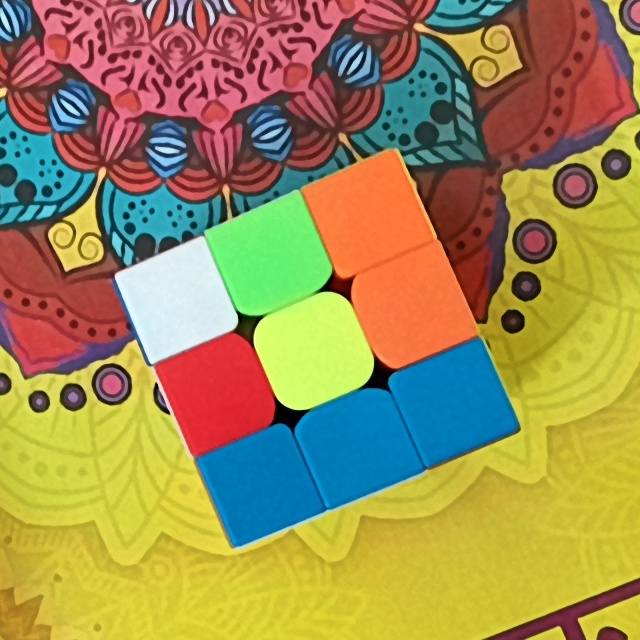tile: (331, 176, 407, 251), (377, 269, 448, 346), (234, 220, 307, 294), (320, 408, 395, 479), (416, 368, 491, 439), (181, 356, 254, 428), (138, 266, 213, 335), (283, 311, 349, 388), (227, 449, 297, 521)
